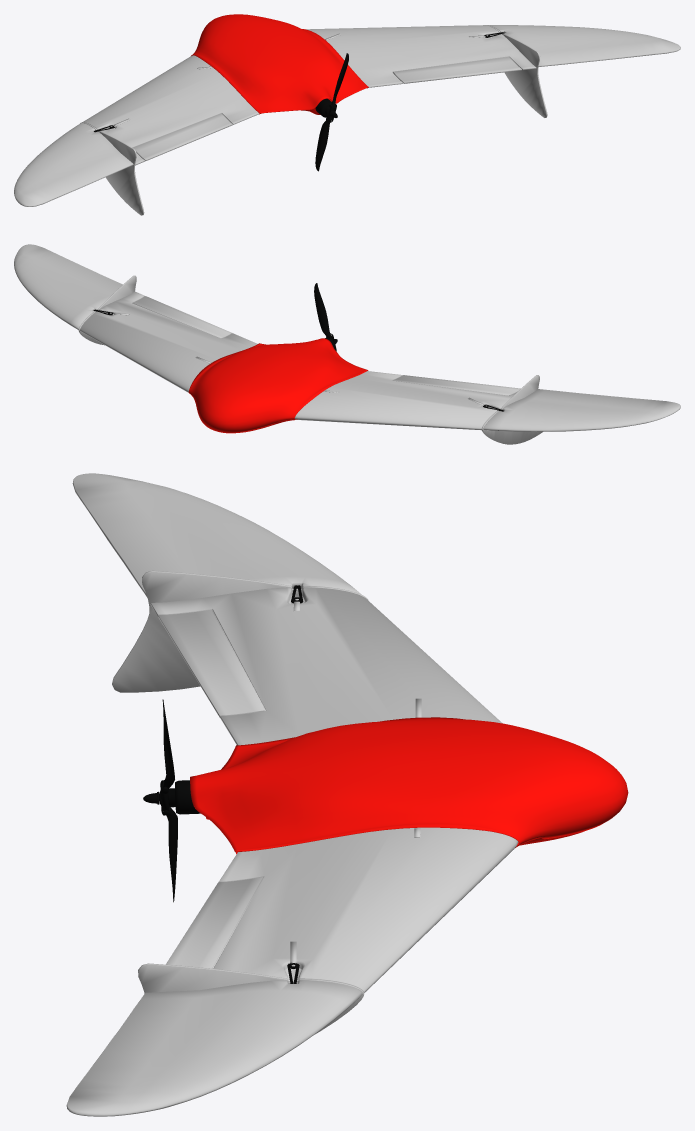
The model's file is geoscan_anim.fbx.
The picture shows the model from 3 angles, top to bottom: view 1: azimuth 30°, elevation 25°; view 2: azimuth 150°, elevation 25°; view 3: azimuth 270°, elevation 25°; orthographic projection. The views are drawn at different scales.
Visible parts, largest first — view 1: Объект_Полигон_2.002 (×2), Idle; view 2: Объект_Полигон_2.002 (×2), Idle; view 3: Объект_Полигон_2.002 (×2), Idle.
Boxes of the visible parts, x1,y1,x2,y2 form: Объект_Полигон_2.002 (×2): (14, 14, 680, 215); Idle: (315, 53, 348, 171); Объект_Полигон_2.002 (×2): (14, 244, 680, 444); Idle: (314, 283, 337, 351); Объект_Полигон_2.002 (×2): (66, 473, 628, 1116); Idle: (143, 699, 177, 902).
Size of the model in its own units: 221 by 36.71 by 82.07.
